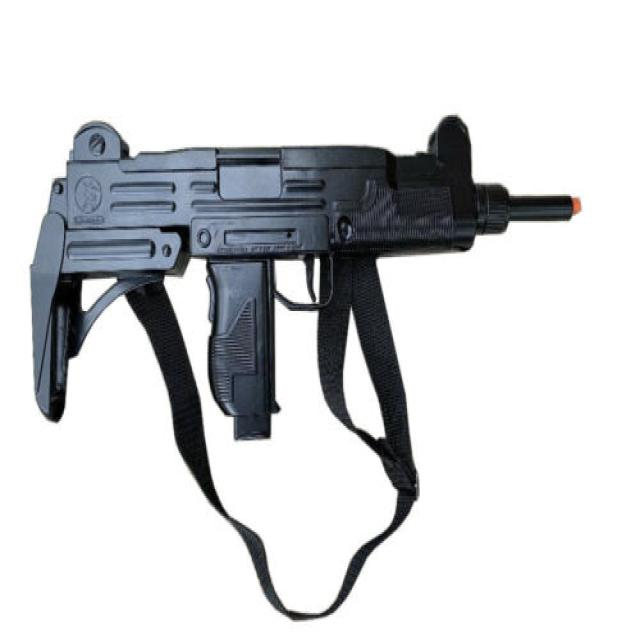SMG: (29, 115, 579, 442)
